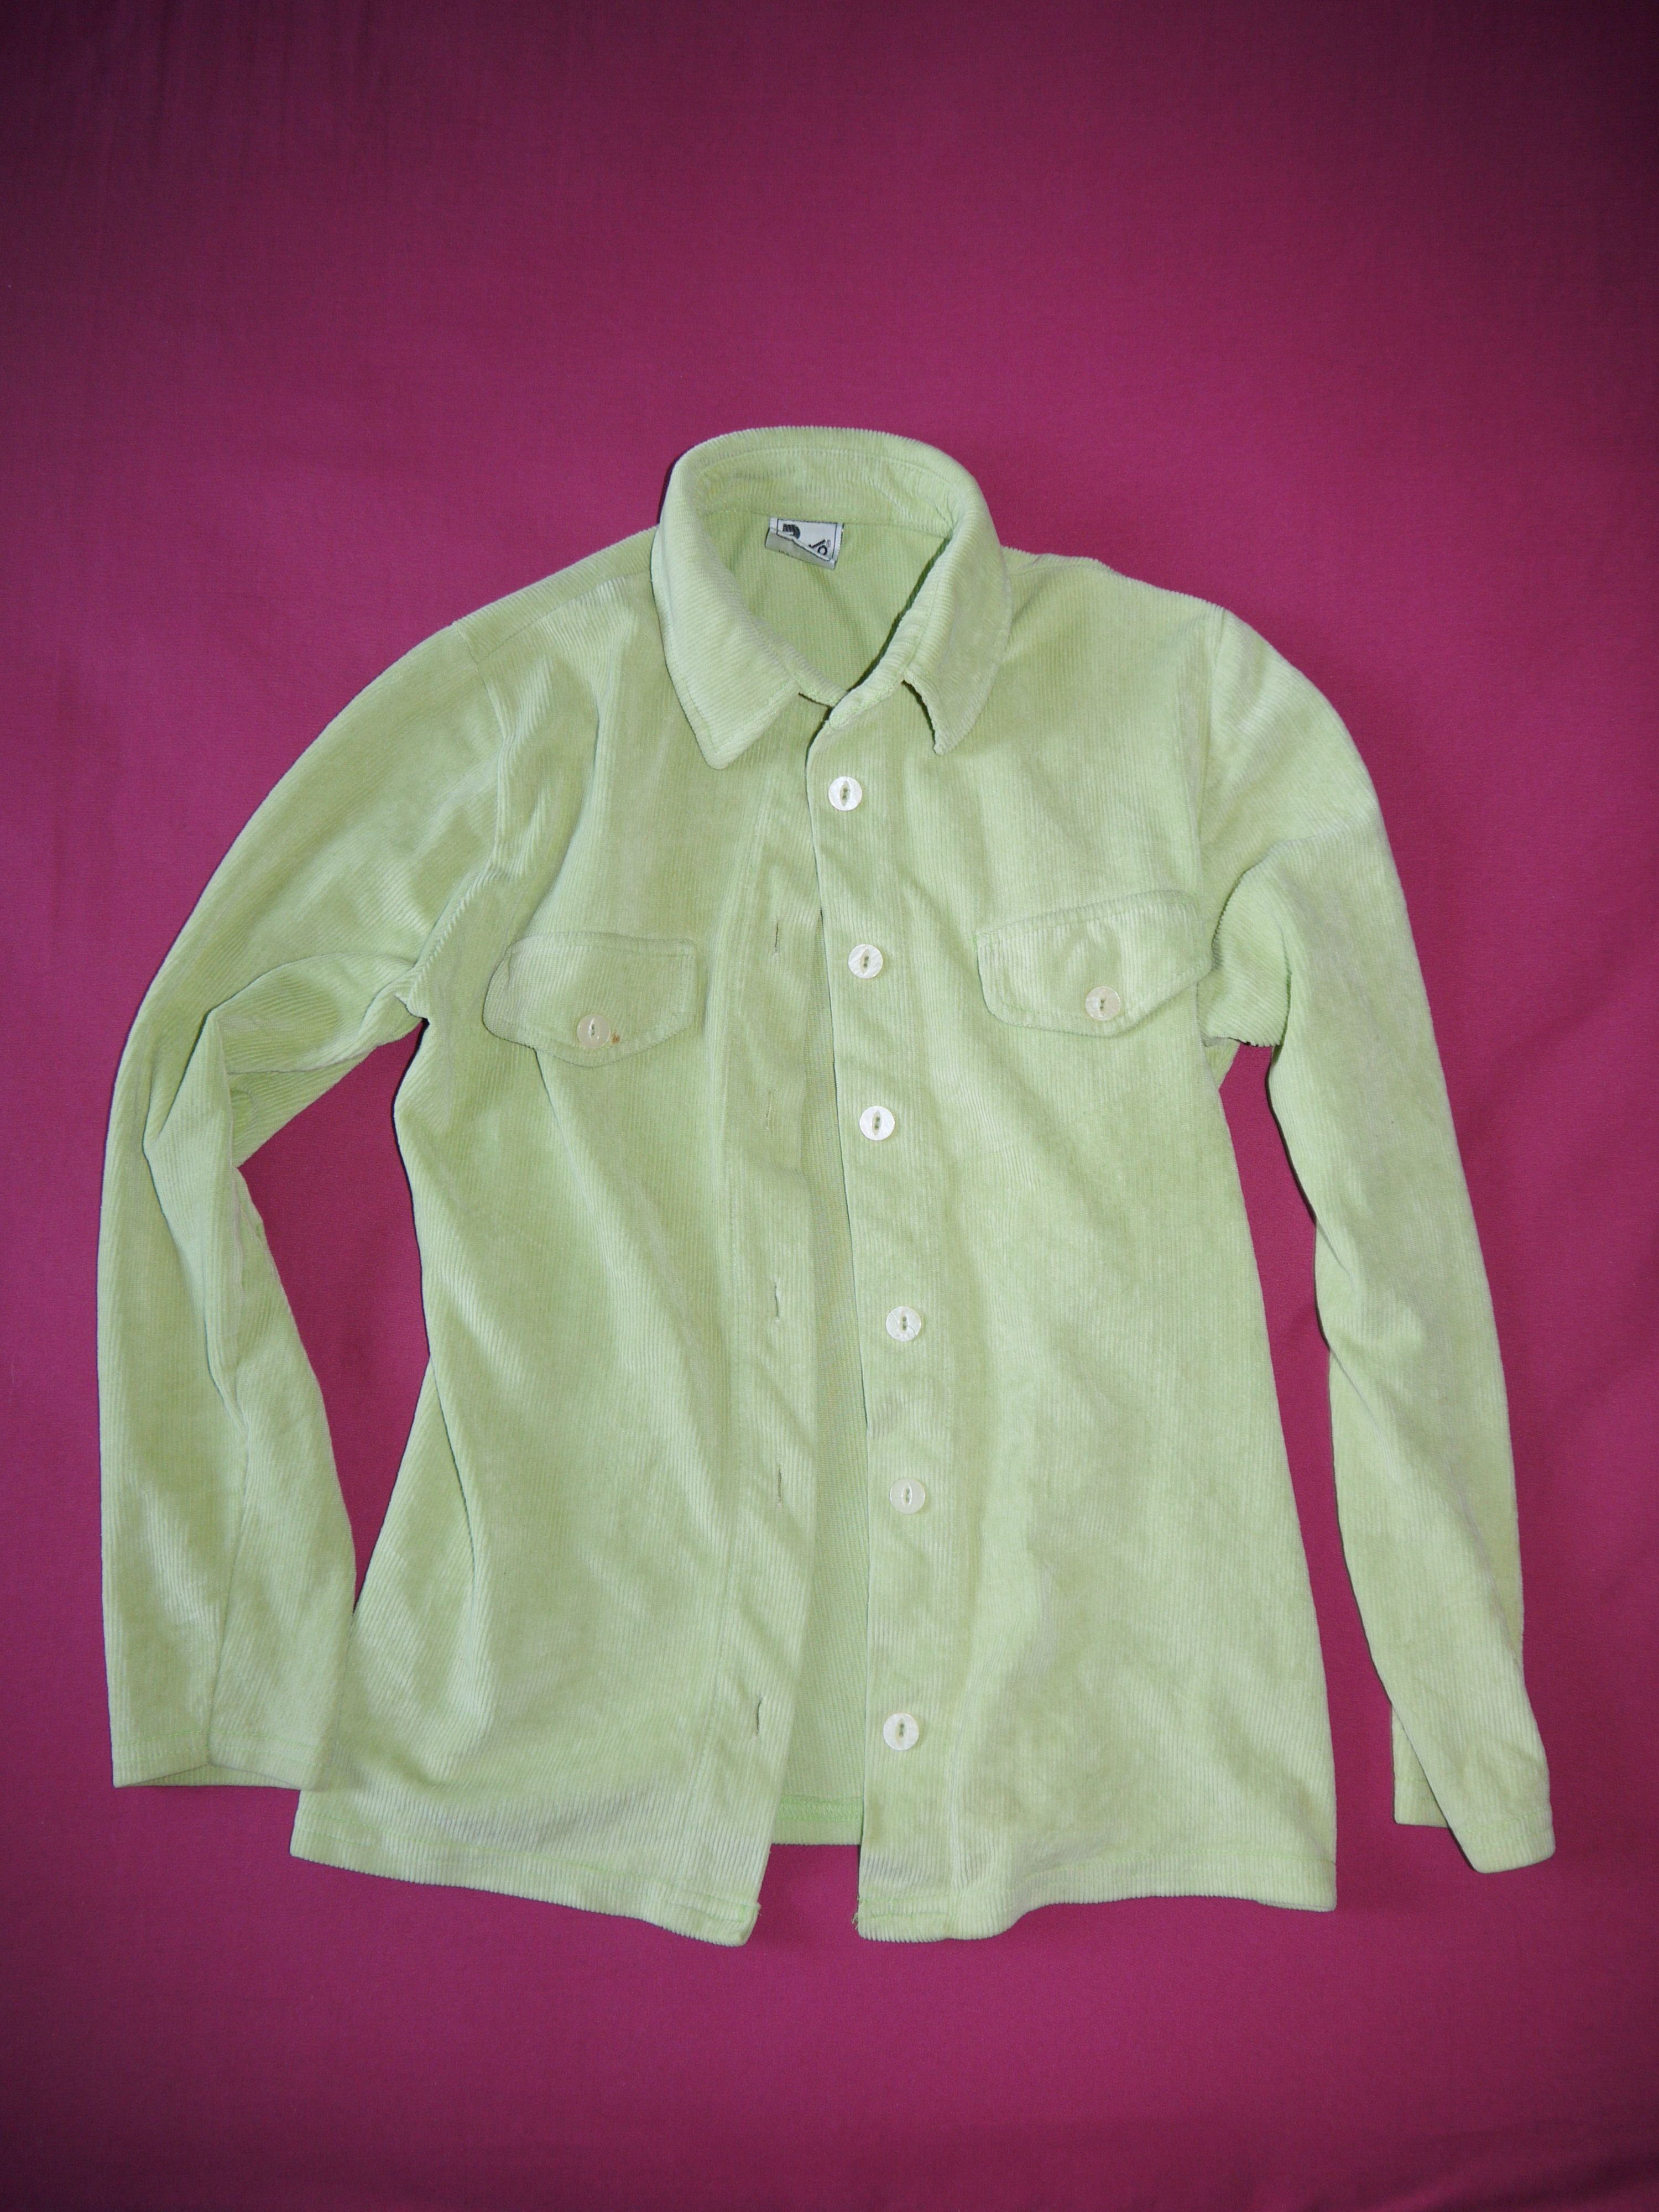clothes: (78, 411, 1579, 1975)
